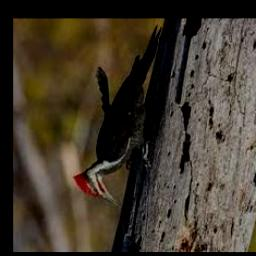Woodpecker: (73, 27, 162, 208)
